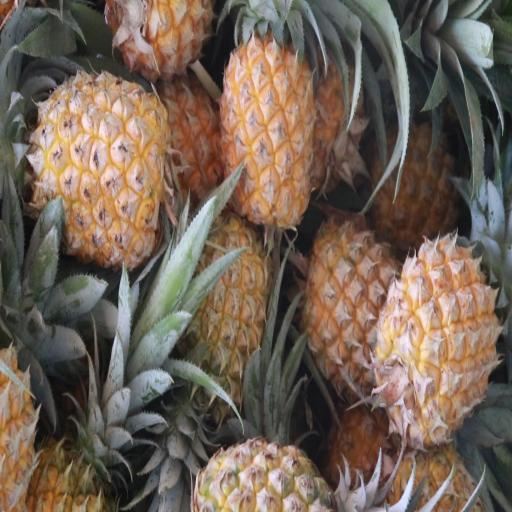------------------------------: (300, 226, 398, 392)
Pineapple - v8 v1: (35, 75, 162, 261), (377, 237, 492, 437), (222, 36, 316, 228), (184, 218, 266, 394), (372, 115, 459, 246)
